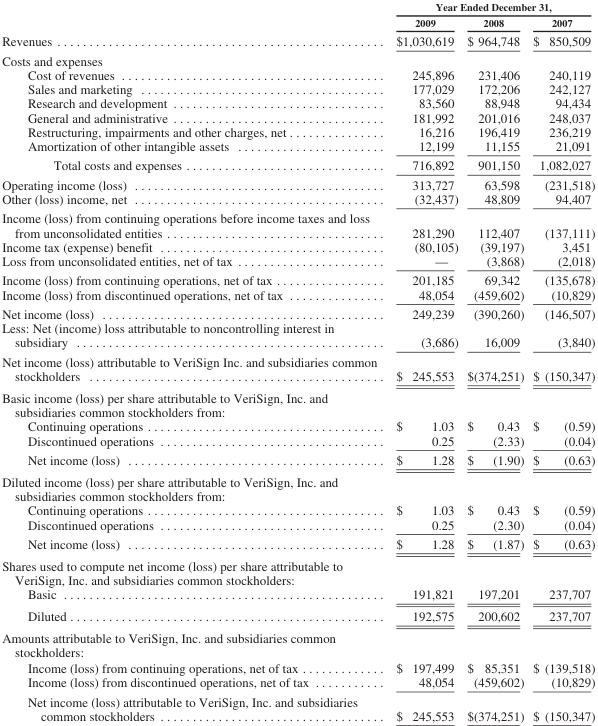table: (1, 0, 594, 722)
table column: (1, 0, 385, 722), (385, 0, 462, 722), (527, 0, 594, 722), (462, 0, 527, 722)
table column header: (1, 0, 594, 30)
table projected row header: (1, 626, 594, 659), (1, 386, 594, 418), (1, 470, 594, 502), (1, 554, 594, 586), (1, 50, 594, 67)
table row: (1, 351, 594, 386), (1, 626, 594, 659), (1, 386, 594, 418), (1, 470, 594, 502), (1, 554, 594, 586), (1, 208, 594, 239), (1, 320, 594, 351), (1, 691, 594, 722), (1, 604, 594, 626), (1, 449, 594, 470), (1, 533, 594, 554), (1, 30, 594, 50), (1, 155, 594, 174), (1, 586, 594, 604), (1, 50, 594, 67), (1, 138, 594, 155), (1, 174, 594, 191), (1, 191, 594, 208), (1, 253, 594, 270), (1, 270, 594, 287), (1, 303, 594, 320), (1, 674, 594, 691), (1, 14, 594, 30), (1, 287, 594, 303), (1, 433, 594, 449), (1, 517, 594, 533), (1, 95, 594, 110), (1, 418, 594, 433), (1, 502, 594, 517), (1, 659, 594, 674), (1, 0, 594, 14), (1, 67, 594, 81), (1, 81, 594, 95), (1, 110, 594, 124), (1, 124, 594, 138), (1, 239, 594, 253)
table spanning cell: (385, 0, 594, 14)
